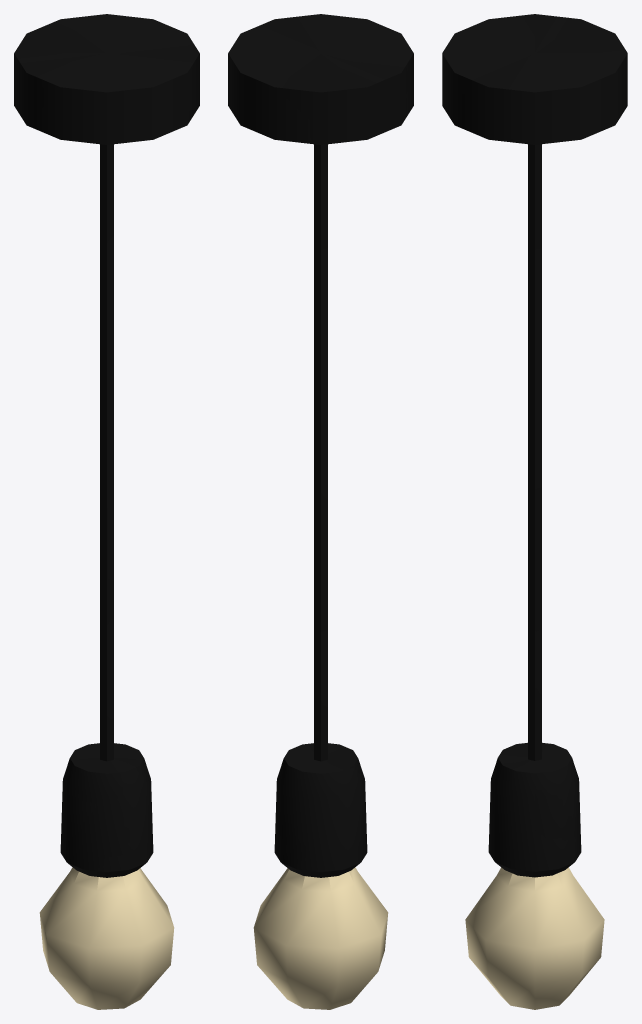
File: FX_BulbPendant.fbx
3 views of the same model, side by side, from view 1: azimuth 30°, elevation 25°; view 2: azimuth 150°, elevation 25°; view 3: azimuth 270°, elevation 25° (orthographic).
Parts seen in each view (by area): view 1: FX_BulbPendant, FX_BulbPendant_Emissive; view 2: FX_BulbPendant, FX_BulbPendant_Emissive; view 3: FX_BulbPendant, FX_BulbPendant_Emissive.
Boxes of the visible parts, x1,y1,x2,y2 form: FX_BulbPendant: (14,14,199,877); FX_BulbPendant_Emissive: (39,867,174,1009); FX_BulbPendant: (228,14,413,877); FX_BulbPendant_Emissive: (253,867,388,1009); FX_BulbPendant: (442,14,627,877); FX_BulbPendant_Emissive: (465,867,604,1009).
Size of the model in its own units: 0.08 by 0.451 by 0.08.
